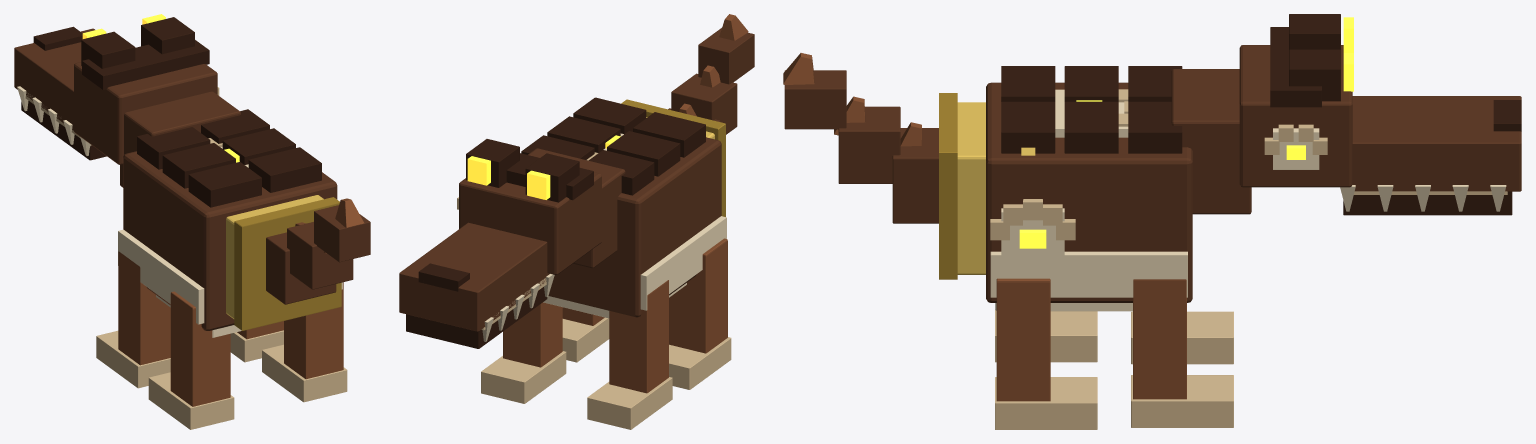
File: cocoa-croc.glb
3 views of the same model, side by side, from view 1: azimuth 30°, elevation 25°; view 2: azimuth 150°, elevation 25°; view 3: azimuth 270°, elevation 25° (orthographic). The views are drawn at different scales.
Parts seen in each view (by area): view 1: body, head, tail, leg.BR, leg.FR, leg.BL, leg.FL; view 2: body, head, leg.FR, leg.BR, tail, leg.FL, leg.BL; view 3: body, head, tail, leg.BL, leg.FL, leg.FR, leg.BR.
Part boxes in pixels (x1,y1,x2,y2): body: [118, 91, 342, 337]; head: [14, 14, 219, 164]; tail: [226, 195, 370, 330]; leg.BR: [148, 291, 234, 429]; leg.FR: [96, 251, 170, 388]; leg.BL: [262, 282, 347, 402]; leg.FL: [230, 321, 283, 362]; body: [521, 97, 726, 318]; head: [399, 139, 601, 348]; leg.FR: [587, 280, 672, 429]; leg.BR: [669, 238, 731, 389]; tail: [621, 14, 754, 216]; leg.FL: [481, 302, 566, 403]; leg.BL: [562, 307, 609, 362]; body: [986, 66, 1251, 311]; head: [1239, 14, 1521, 215]; tail: [783, 53, 1035, 279]; leg.BL: [995, 278, 1097, 429]; leg.FL: [1131, 279, 1233, 427]; leg.FR: [1131, 311, 1233, 364]; leg.BR: [995, 310, 1097, 362].
Bounding box in the file's own units: 0.5943 × 1 × 1.96.
